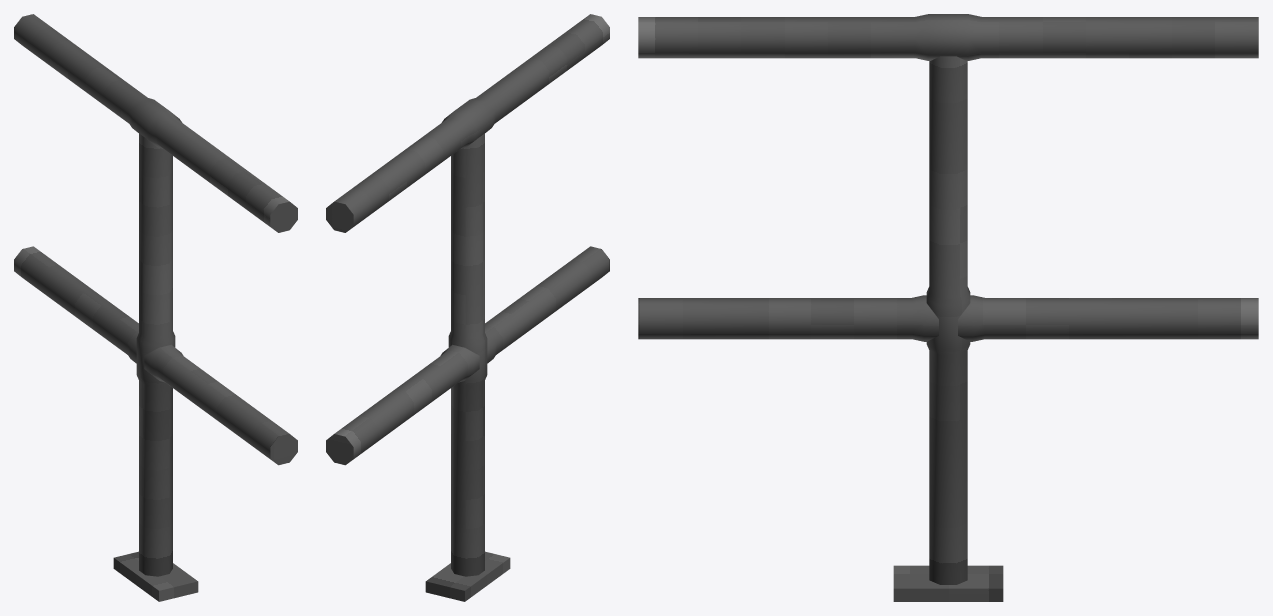
File: railing_normal.obj
3 renders of one model, left to right at view 1: azimuth 30°, elevation 25°; view 2: azimuth 150°, elevation 25°; view 3: azimuth 270°, elevation 25°, orthographic. The views are drawn at different scales.
Parts seen in each view (by area): view 1: railnormal; view 2: railnormal; view 3: railnormal.
Part boxes in pixels (x1=…): railnormal: x1=14, y1=14, x2=297, y2=601; railnormal: x1=326, y1=14, x2=609, y2=601; railnormal: x1=638, y1=14, x2=1258, y2=601.
Size of the model in its own units: 0.088 by 1.02 by 1.
